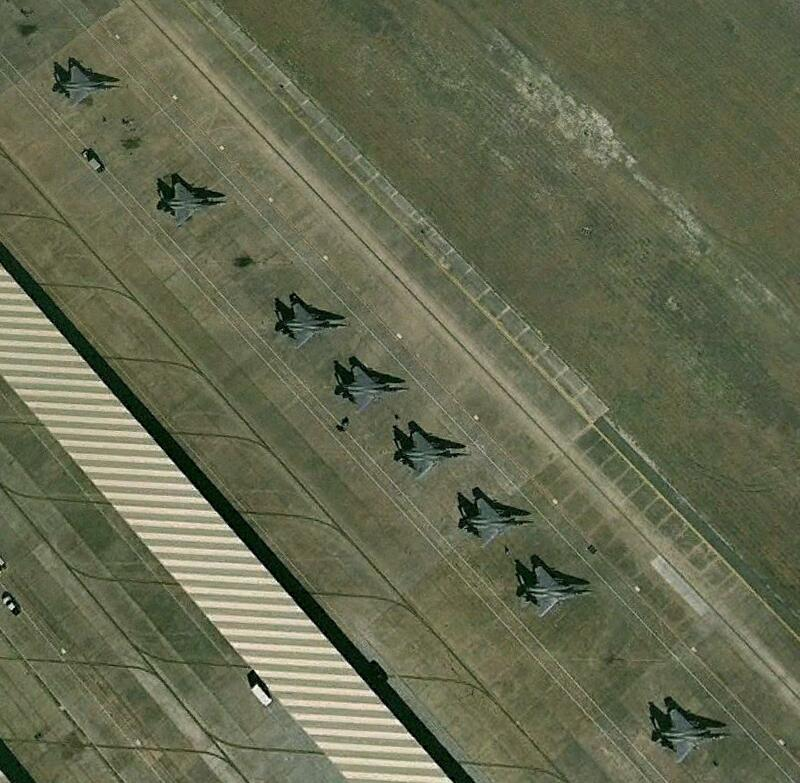A13: (513, 565, 593, 619), (651, 707, 728, 760), (332, 362, 412, 412), (456, 495, 532, 547), (273, 299, 348, 349), (393, 430, 468, 478), (158, 178, 228, 228), (53, 60, 124, 107)
